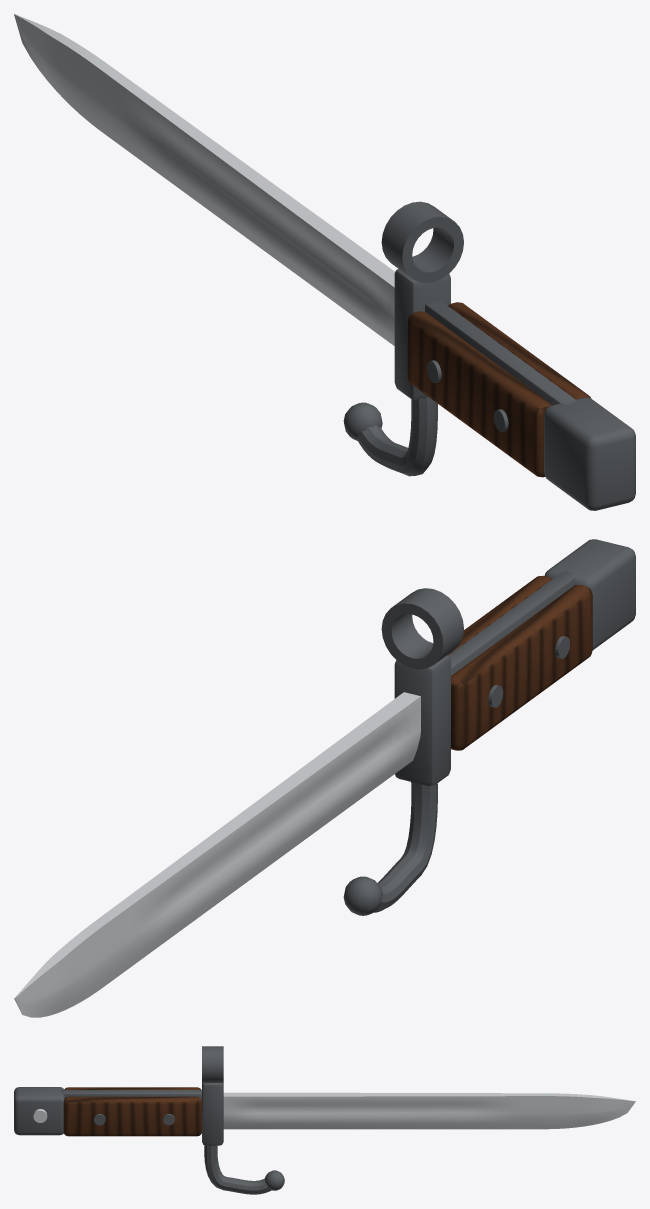
Rendered from sungu.glb.
The picture shows the model from 3 angles, top to bottom: view 1: azimuth 30°, elevation 25°; view 2: azimuth 150°, elevation 25°; view 3: azimuth 270°, elevation 25°; orthographic projection. The views are drawn at different scales.
Visible parts, largest first — view 1: Sungu; view 2: Sungu; view 3: Sungu.
Boxes of the visible parts, x1,y1,x2,y2 form: Sungu: (14, 14, 635, 510); Sungu: (14, 539, 635, 1017); Sungu: (14, 1046, 635, 1194).
Bounding box in the file's own units: 0.0236 × 0.0975 × 0.377.
3 materials, 1 textured.
